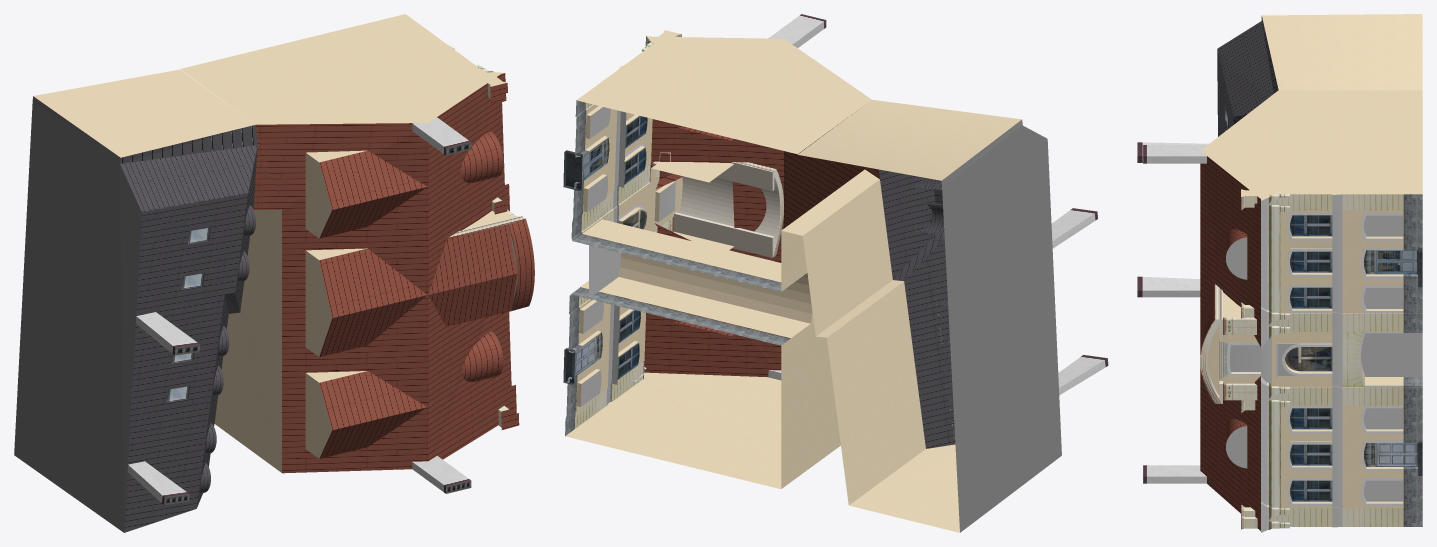
The model's file is Vana-Viru_5.obj.
The picture shows the model from 3 angles, left to right: view 1: azimuth 30°, elevation 25°; view 2: azimuth 150°, elevation 25°; view 3: azimuth 270°, elevation 25°; orthographic projection. The views are drawn at different scales.
Parts seen in each view (by area): view 1: Vana_Viru_5; view 2: Vana_Viru_5; view 3: Vana_Viru_5.
Boxes of the visible parts, left/top/right/bottom form: Vana_Viru_5: left=14, top=14, right=534, bottom=532; Vana_Viru_5: left=563, top=14, right=1108, bottom=532; Vana_Viru_5: left=1137, top=14, right=1422, bottom=532.
Size of the model in its own units: 25.03 by 20.31 by 15.64.
